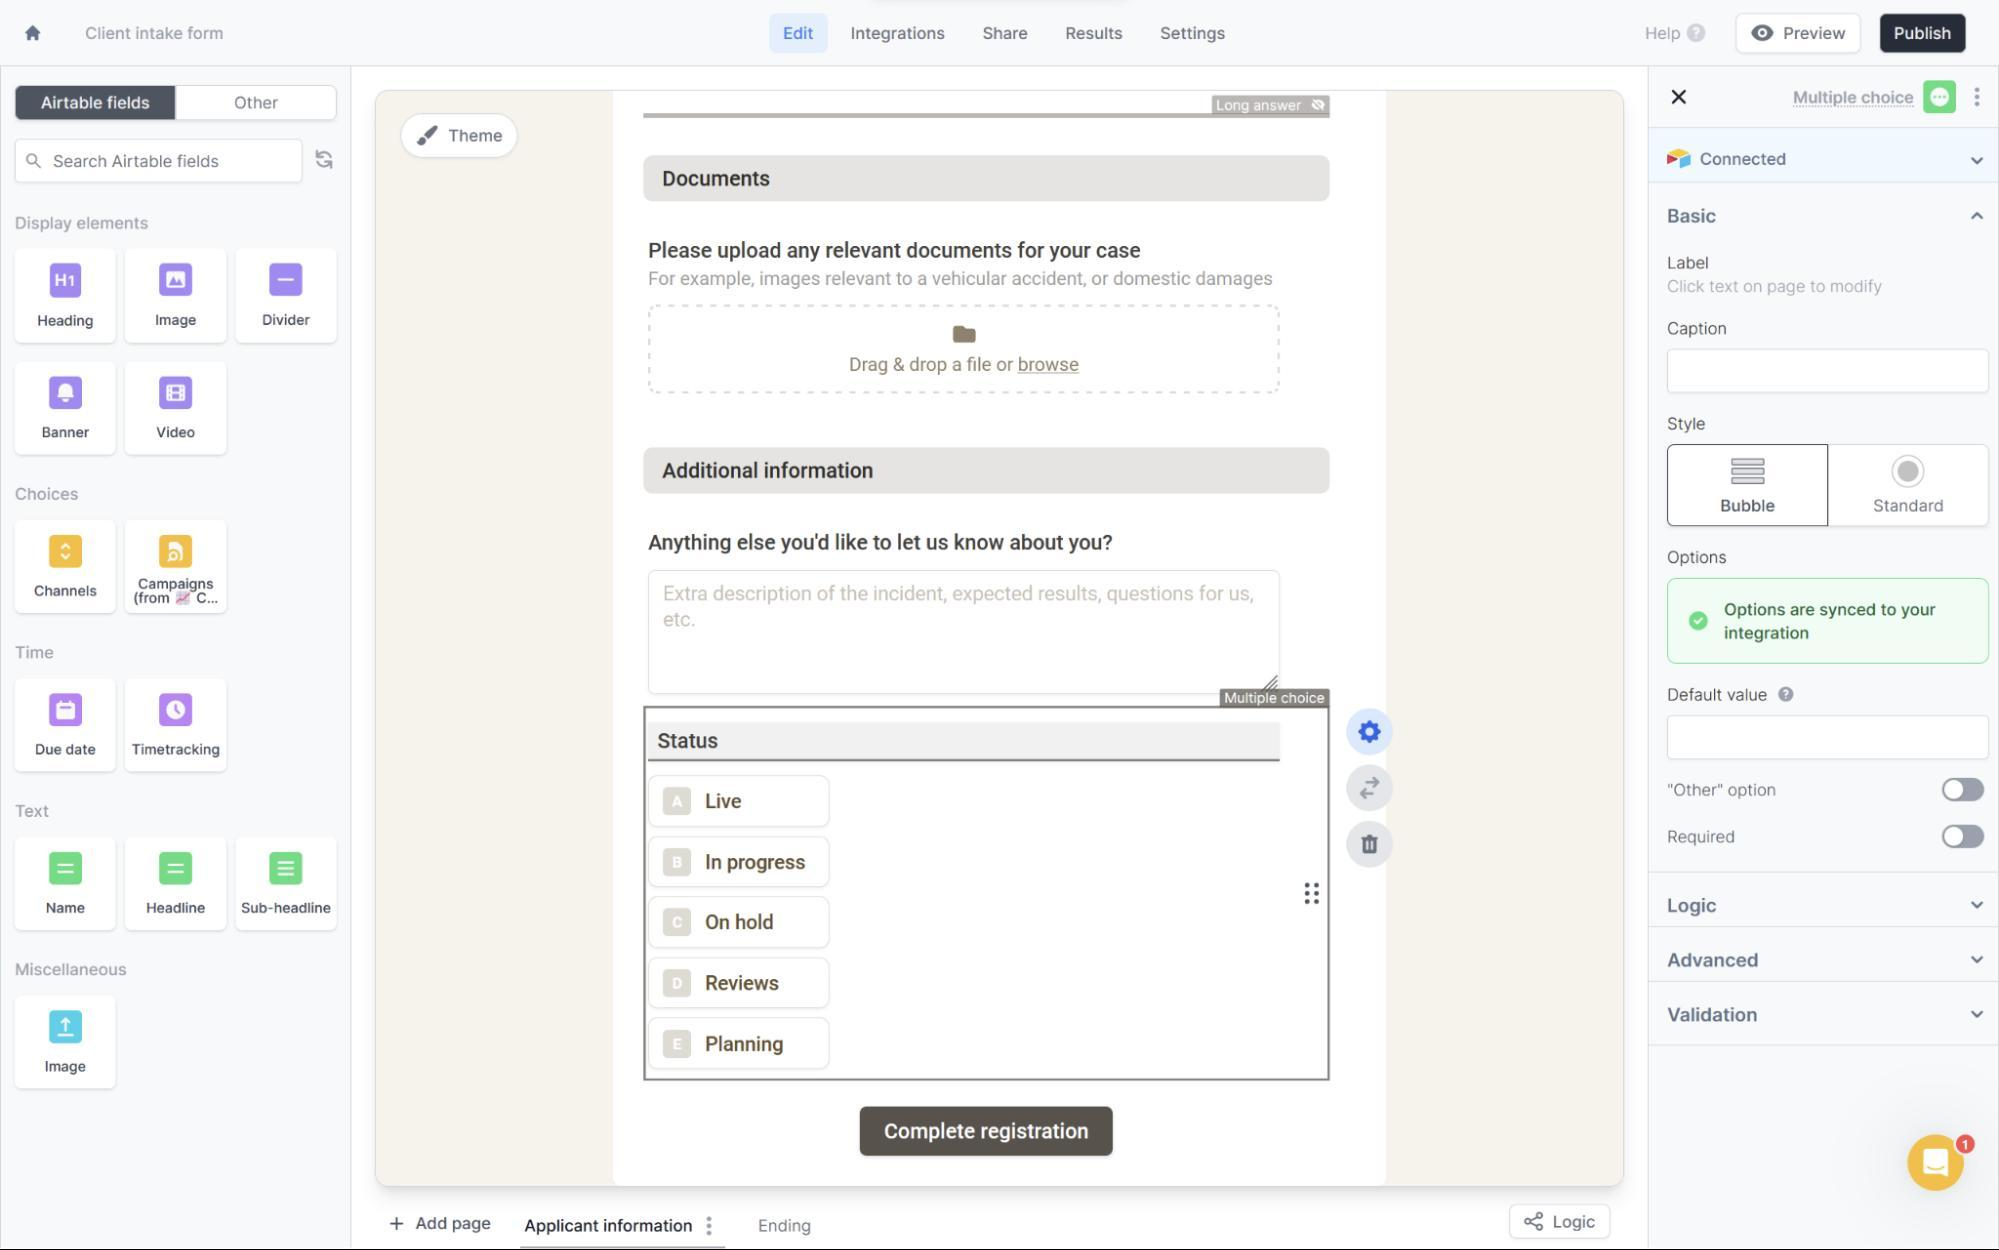button: (860, 1107, 1115, 1159), (650, 776, 832, 829), (650, 837, 831, 889), (650, 897, 831, 949), (650, 1018, 831, 1070), (650, 959, 831, 1010), (176, 86, 338, 122), (400, 114, 521, 160), (16, 86, 176, 121), (1735, 14, 1862, 56), (1509, 1204, 1612, 1240), (1881, 14, 1967, 53), (771, 14, 830, 53), (1347, 822, 1396, 868), (1347, 710, 1393, 757), (1347, 768, 1394, 812)
dropdown: (1649, 982, 1999, 1046), (1649, 873, 1999, 927), (1649, 927, 1999, 982)
icon: (1908, 1133, 1975, 1197), (1730, 457, 1769, 488), (160, 853, 194, 887), (49, 1010, 84, 1044), (50, 264, 84, 300), (158, 377, 194, 410), (269, 264, 304, 297), (50, 536, 84, 570), (160, 536, 194, 569), (269, 853, 304, 886), (161, 264, 194, 297), (50, 377, 84, 410), (50, 696, 84, 729), (50, 853, 84, 886), (1924, 81, 1957, 114), (160, 696, 194, 727), (1663, 145, 1697, 173), (948, 323, 982, 349), (313, 148, 337, 171), (1688, 22, 1710, 45), (1970, 85, 1987, 109), (1671, 88, 1691, 108), (24, 24, 45, 43), (1967, 153, 1987, 171), (1967, 207, 1987, 226), (706, 1213, 719, 1241), (390, 1215, 408, 1234)
input: (650, 572, 1280, 694), (645, 156, 1329, 203), (644, 449, 1331, 495), (1668, 350, 1990, 395), (1669, 714, 1990, 757), (17, 143, 305, 181)
label: (647, 238, 1146, 262), (647, 533, 1116, 557), (526, 1215, 696, 1238), (4, 953, 132, 979), (1666, 683, 1802, 704), (16, 213, 151, 235), (85, 24, 228, 45), (134, 577, 222, 608), (1663, 315, 1743, 347), (851, 24, 949, 48), (130, 739, 225, 762), (1666, 782, 1779, 801), (1659, 544, 1731, 572), (239, 899, 336, 919), (1662, 827, 1741, 850), (1701, 151, 1790, 171), (12, 637, 65, 670), (1663, 409, 1717, 439), (416, 1215, 493, 1236), (14, 485, 84, 507), (1874, 495, 1949, 514), (145, 899, 210, 920), (1159, 24, 1228, 45), (9, 798, 58, 825), (33, 740, 99, 760), (33, 312, 98, 333), (760, 1215, 817, 1238), (1064, 24, 1126, 45), (35, 583, 99, 602), (981, 23, 1033, 46), (1718, 497, 1779, 516), (1668, 207, 1720, 228), (1666, 253, 1712, 275), (261, 312, 313, 331), (45, 1057, 89, 1079), (46, 899, 89, 919), (156, 423, 200, 442), (153, 314, 199, 330), (1645, 26, 1684, 45), (40, 428, 94, 441)
radio: (1891, 457, 1927, 490)
switch: (1943, 827, 1986, 850), (1943, 781, 1985, 804)
